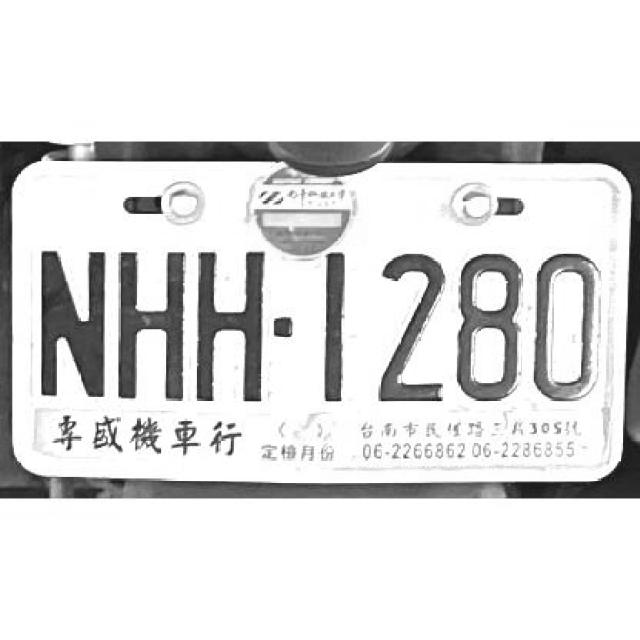-: (271, 312, 297, 340)
0: (528, 246, 600, 405)
1: (320, 251, 345, 397)
2: (372, 246, 450, 403)
8: (449, 245, 525, 403)
H: (111, 242, 191, 409), (194, 246, 269, 409)
N: (32, 243, 110, 402)
